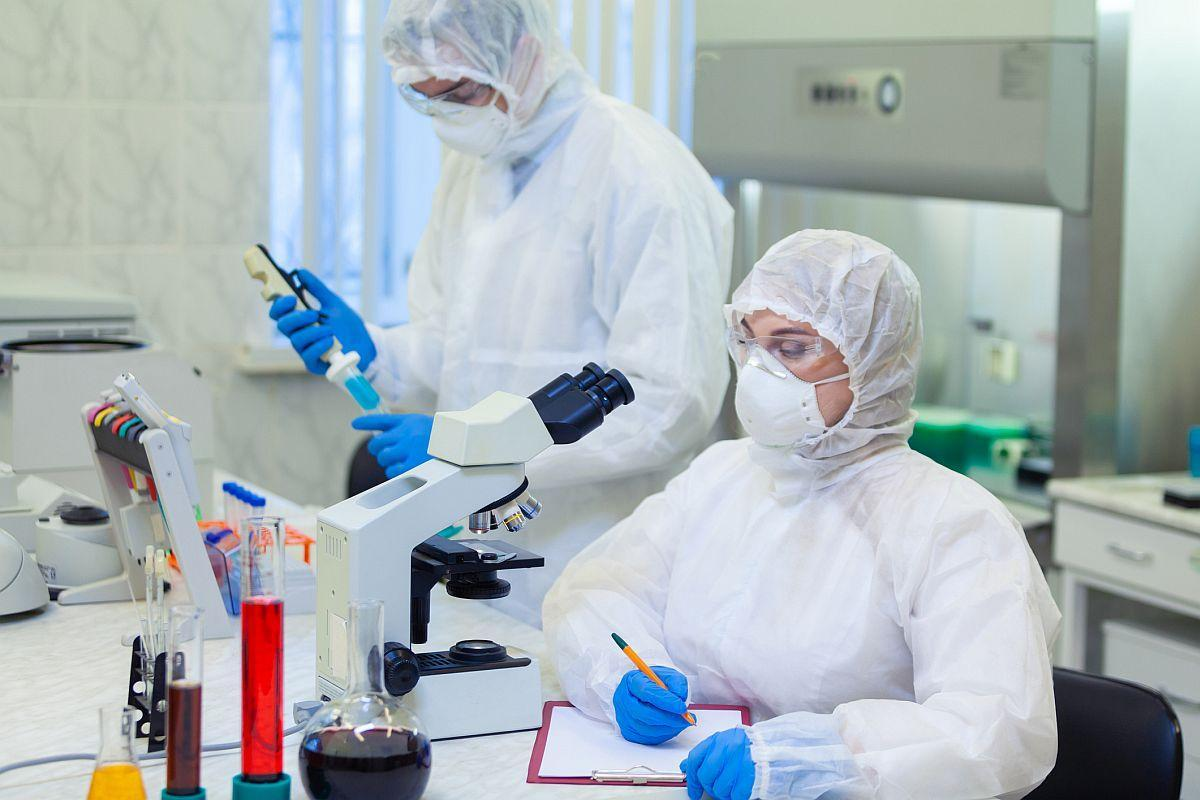Gloves: (268, 265, 382, 385), (614, 667, 688, 744), (349, 411, 432, 477), (685, 727, 754, 795)
Goggles: (721, 326, 830, 369), (395, 78, 496, 121)
